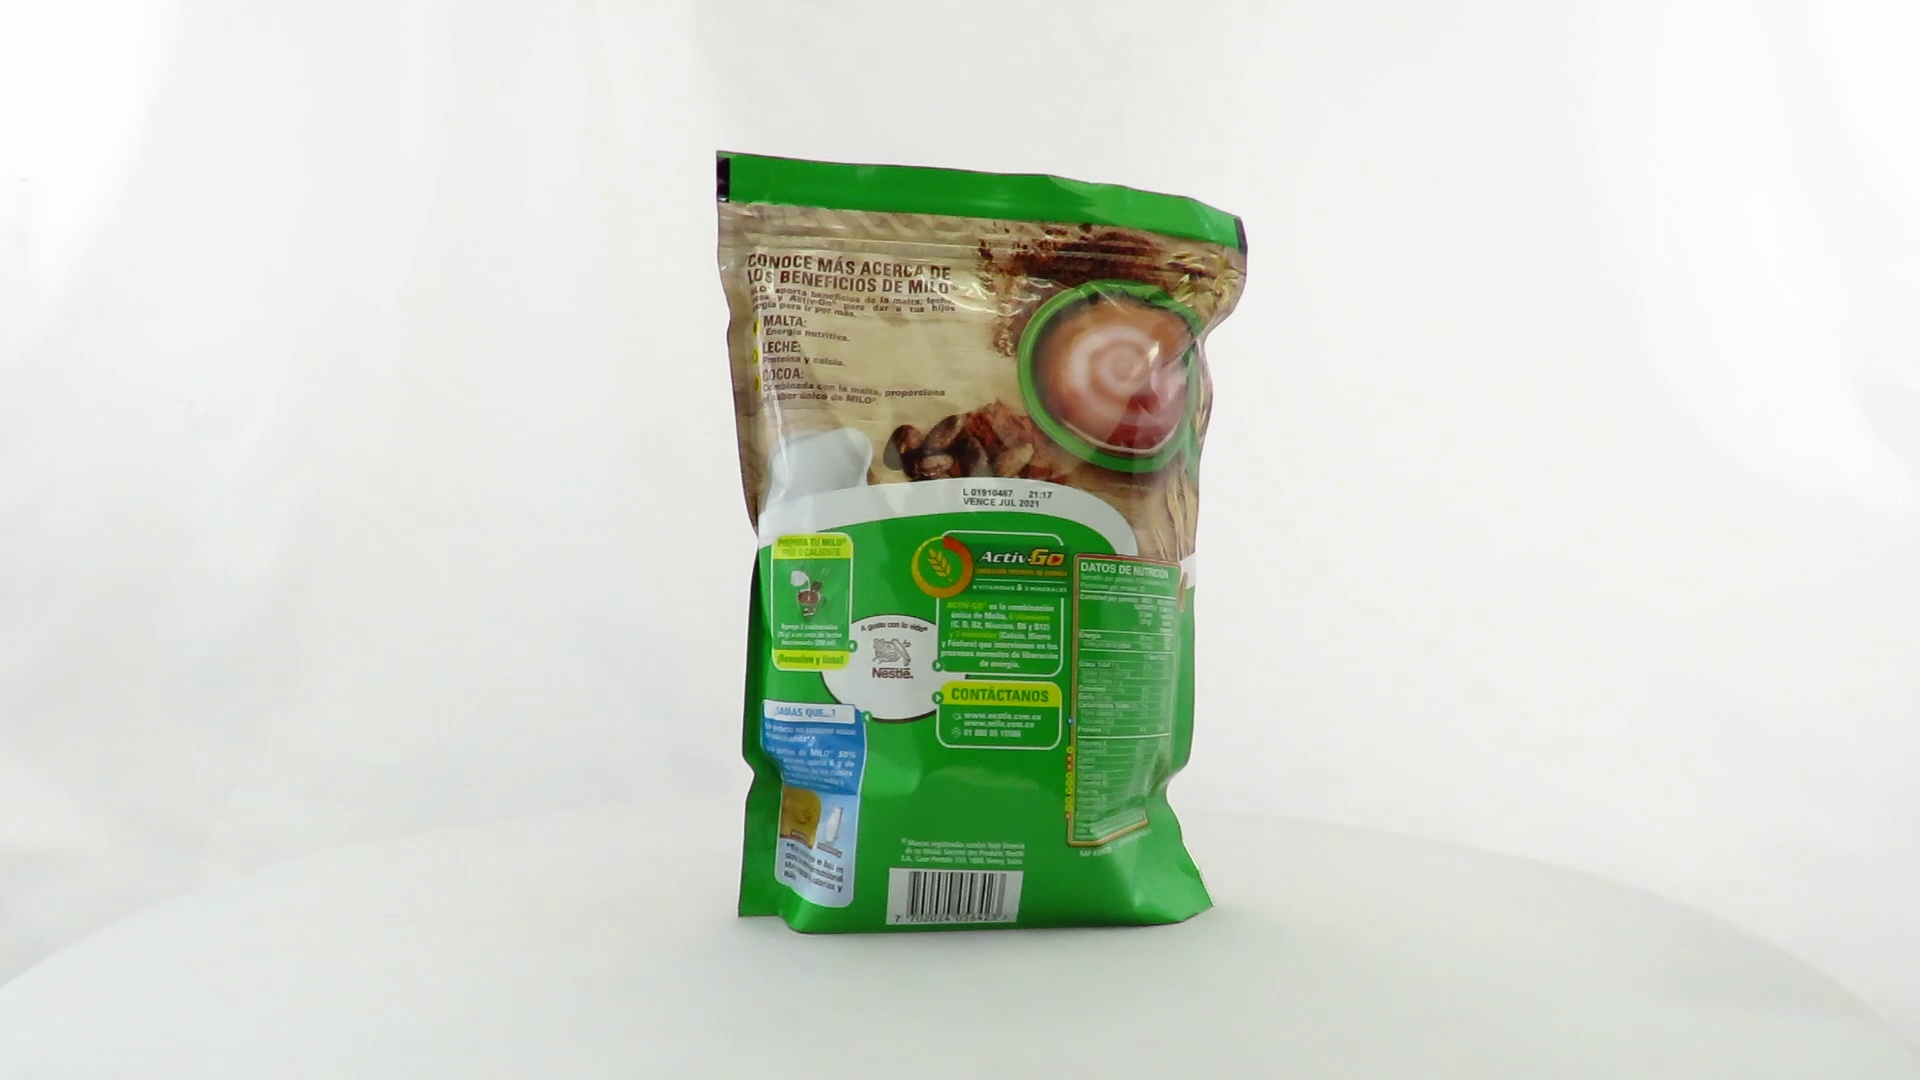COL0170205DYP50000: (711, 145, 1254, 942)
